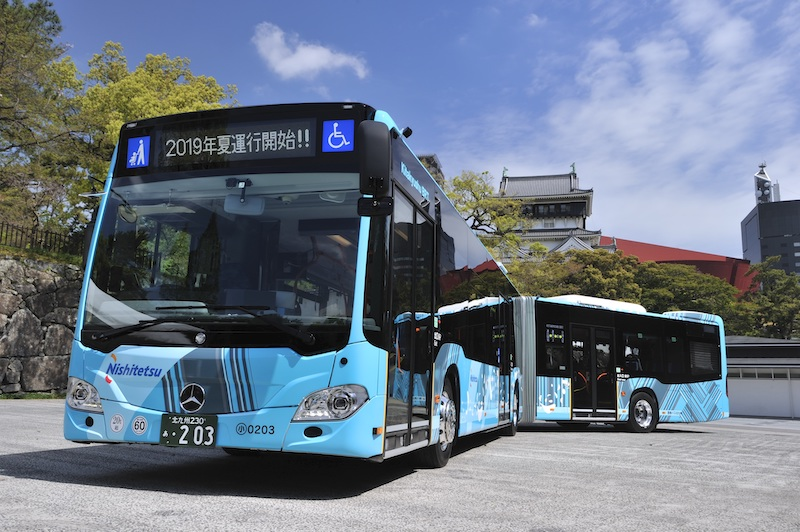destination: (154, 116, 316, 168)
